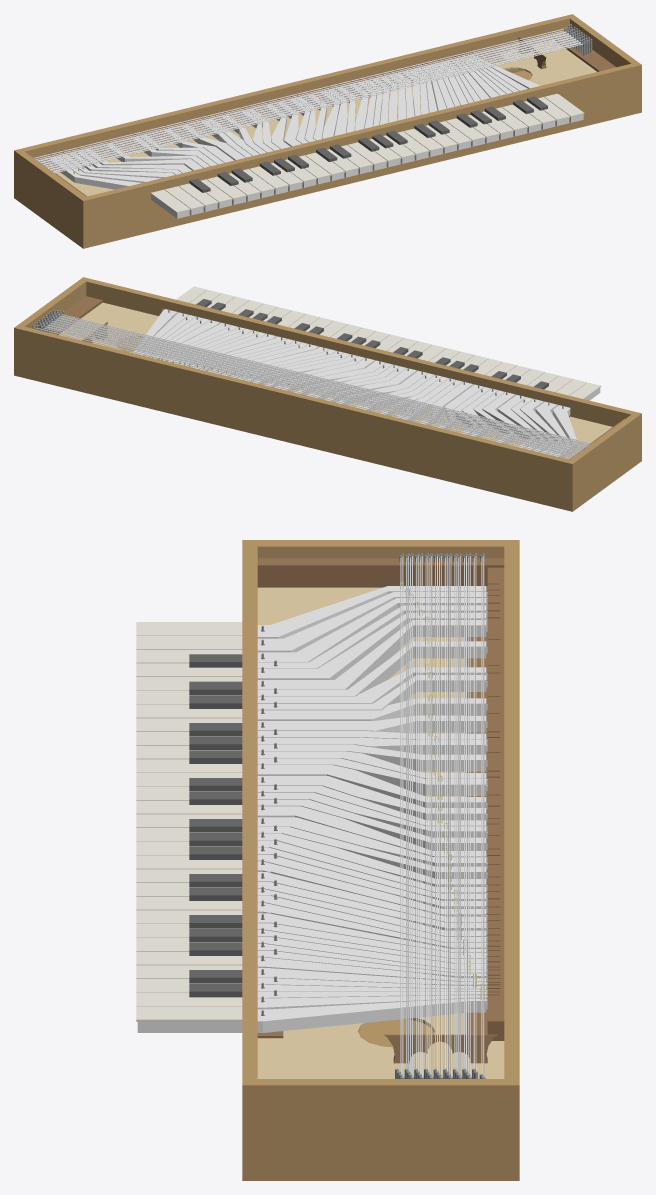
The model's file is clavichord.glb.
3 views of the same model, one above another, from view 1: azimuth 30°, elevation 25°; view 2: azimuth 150°, elevation 25°; view 3: azimuth 270°, elevation 25° (orthographic). The views are drawn at different scales.
Bounding box in the file's own units: 1005 × 82.02 × 299.
